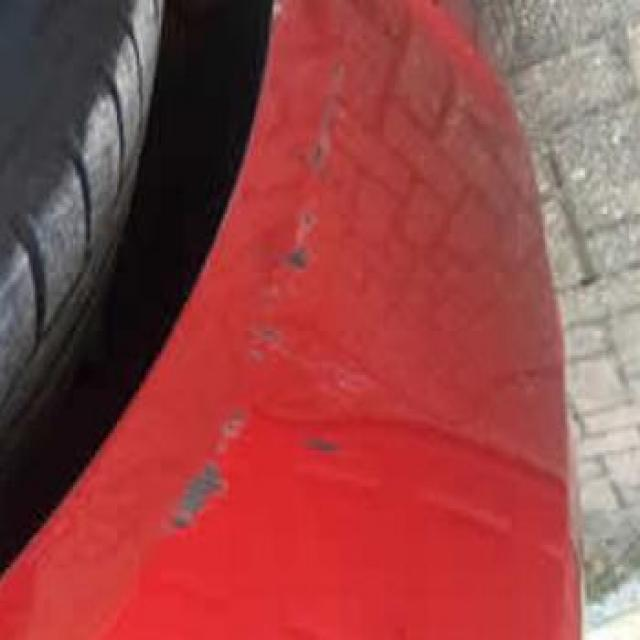scratch: (150, 38, 390, 574)
